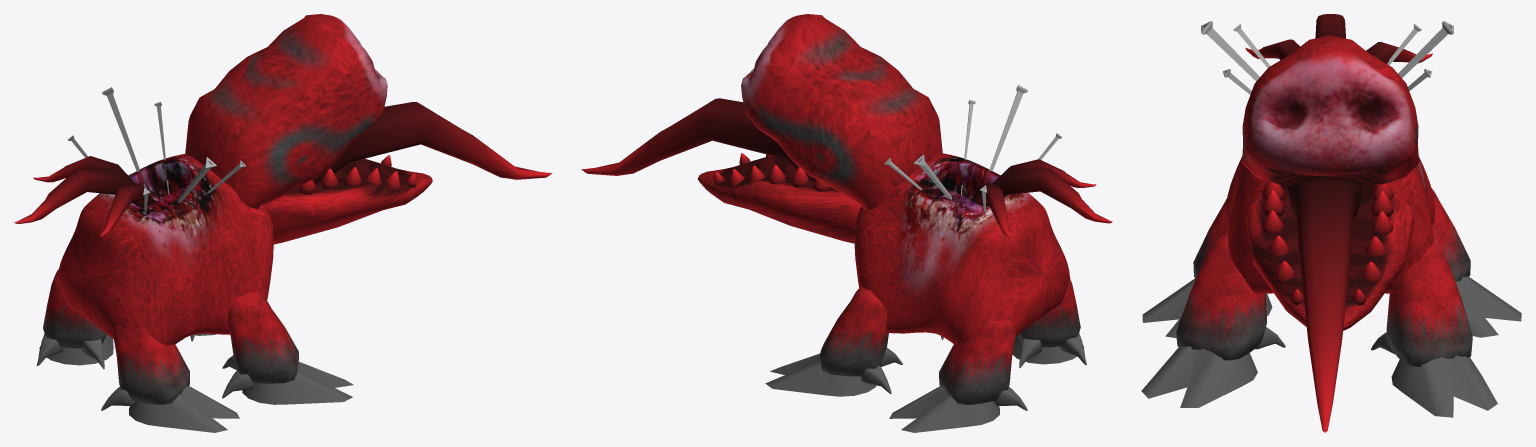
File: Oinkling.fbx
3 views of the same model, side by side, from view 1: azimuth 30°, elevation 25°; view 2: azimuth 150°, elevation 25°; view 3: azimuth 270°, elevation 25° (orthographic). The views are drawn at different scales.
Parts seen in each view (by area): view 1: subdivCube1, subdivCylinder1, LowerLeg3 (×3), subdivCube2, Hoof5 (×3), subdivCube11, subdivCube12, subdivCube14, subdivCube13, pCylinder7; view 2: subdivCube1, subdivCylinder1, LowerLeg3 (×3), subdivCube2, Hoof5 (×3), subdivCube11, subdivCube12, subdivCube13, subdivCube14, pCylinder3; view 3: subdivCylinder1, LowerLeg3 (×4), Hoof5 (×4), subdivCube11, subdivCube2, subdivCube1, subdivCube12, subdivCube13, pCylinder3, pCylinder7, subdivCube14, subdivCone8 (+3 smaller).
Boxes of the visible parts, x1,y1,x2,y2 form: subdivCube1: [58, 153, 273, 345]; subdivCylinder1: [185, 14, 387, 209]; LowerLeg3 (×3): [43, 269, 299, 404]; subdivCube2: [265, 159, 432, 244]; Hoof5 (×3): [39, 334, 353, 432]; subdivCube11: [298, 102, 552, 187]; subdivCube12: [14, 169, 156, 223]; subdivCube14: [100, 182, 155, 236]; subdivCube13: [33, 156, 134, 182]; pCylinder7: [102, 87, 146, 188]; subdivCube1: [854, 153, 1069, 344]; subdivCylinder1: [741, 14, 942, 209]; LowerLeg3 (×3): [819, 279, 1080, 404]; subdivCube2: [698, 156, 861, 243]; Hoof5 (×3): [765, 335, 1084, 432]; subdivCube11: [581, 98, 815, 181]; subdivCube12: [971, 168, 1112, 223]; subdivCube13: [972, 183, 1010, 238]; subdivCube14: [992, 159, 1096, 187]; pCylinder3: [989, 85, 1028, 171]; subdivCylinder1: [1242, 35, 1418, 187]; LowerLeg3 (×4): [1176, 188, 1472, 367]; Hoof5 (×4): [1141, 276, 1521, 417]; subdivCube11: [1288, 176, 1362, 432]; subdivCube2: [1245, 184, 1414, 330]; subdivCube1: [1226, 156, 1435, 294]; subdivCube12: [1315, 14, 1345, 38]; subdivCube13: [1366, 42, 1432, 63]; pCylinder3: [1201, 21, 1259, 81]; pCylinder7: [1398, 21, 1453, 77]; subdivCube14: [1245, 39, 1300, 59]; subdivCone8: [1371, 191, 1393, 217].
Size of the model in its own units: 3.67 by 2.07 by 1.85.
